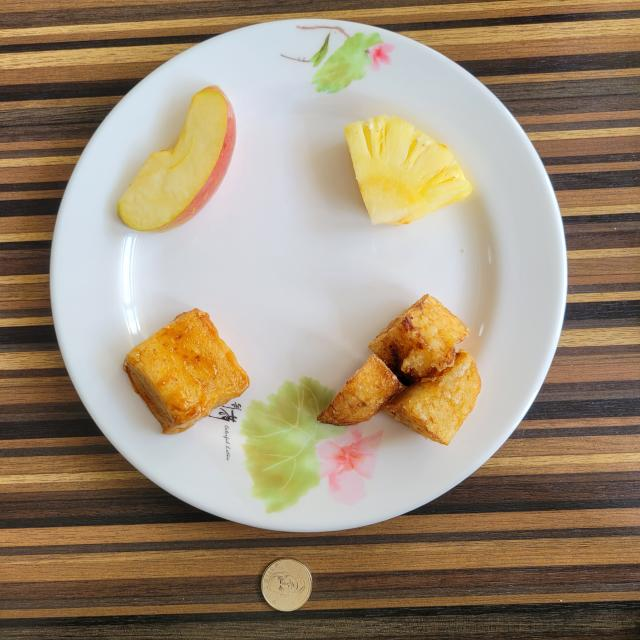apple -sliced-: (118, 86, 236, 232)
coin: (261, 559, 312, 611)
creamy tofu: (124, 309, 250, 434)
fried potato: (318, 295, 481, 445)
pineapple: (345, 115, 472, 225)
